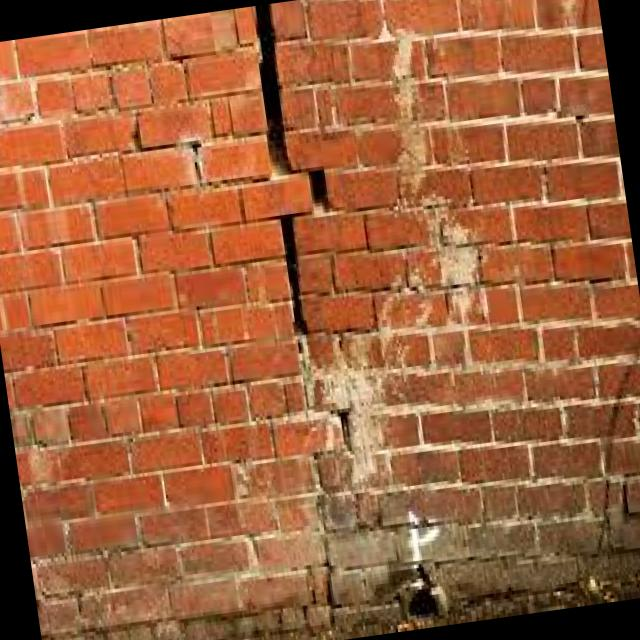crack: (237, 0, 389, 628)
